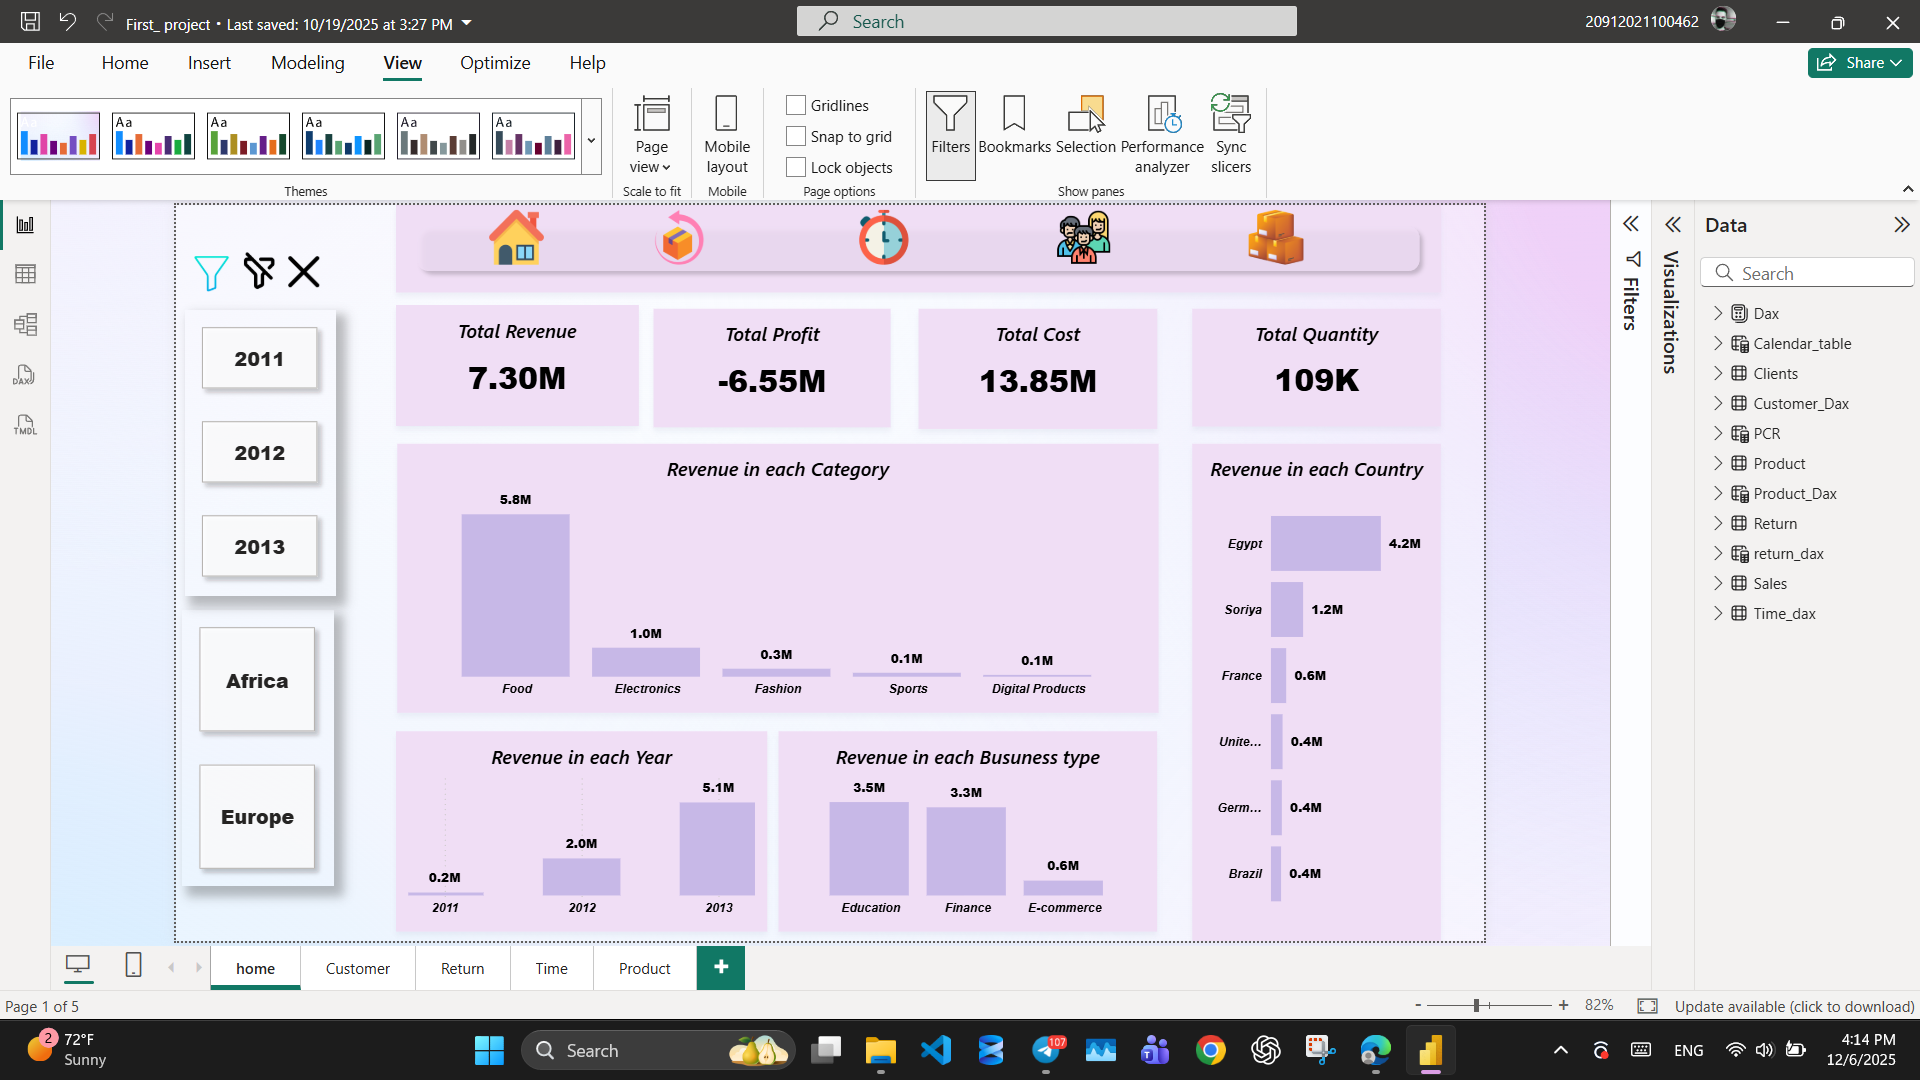

The dashboard page shown, as its layout file describes it:
{"tool":"powerbi","page":{"name":"home","canvas":[1280,720],"ordinal":0},"visuals":[{"type":"advancedSlicerVisual","fields":{"Values":["Calendar_table.year"]},"box":[8.6,102.7,148,280],"z":2000},{"type":"advancedSlicerVisual","fields":{"Values":["Clients.Continent"]},"box":[6.1,396.2,148,270.2],"z":3000},{"type":"shape","box":[215.2,0,1022.3,85.6],"z":4000},{"type":"image","box":[95.4,45.2,58.7,40.4],"z":5000},{"type":"image","box":[50.1,41.6,62.4,50.1],"z":6000},{"type":"image","box":[0,45.2,69.7,44],"z":7000},{"type":"image","box":[275.6,0,116.7,63.3],"z":8000},{"type":"image","box":[815.6,0,145.5,63.6],"z":9000},{"type":"image","box":[624.4,0,135.3,63.3],"z":10000},{"type":"image","box":[430.4,0,124.7,63.6],"z":11000},{"type":"image","box":[1015.4,0,122.9,63.3],"z":12000},{"type":"card","title":"Total Revenue","fields":{"Values":["Dax.total _revenue"]},"box":[215.2,97.8,237.2,118.6],"z":13000},{"type":"card","title":"Total Revenue","fields":{"Values":["Dax.Show_Variance_revenue"]},"box":[357.1,177.3,90.5,50.1],"z":14000},{"type":"card","title":"Total Revenue","fields":{"Values":["Dax.Arrow_revenue"]},"box":[214,165.1,63.6,63.6],"z":15000},{"type":"card","title":"Total Profit","fields":{"Values":["Dax.total_profit"]},"box":[467.1,101.5,232.3,116.2],"z":16000},{"type":"card","title":"Total Revenue","fields":{"Values":["Dax.Show_Variance_profit"]},"box":[601.6,178.5,90.5,50.1],"z":17000},{"type":"card","title":"Total Revenue","fields":{"Values":["Dax.Arrow_profit"]},"box":[452.4,170,63.6,63.6],"z":18000},{"type":"card","title":"Total Cost","fields":{"Values":["Dax.total_cost"]},"box":[726.4,101.5,233.6,117.4],"z":19000},{"type":"card","title":"Total Revenue","fields":{"Values":["Dax.Show_Variance_cost"]},"box":[870.7,177.3,90.5,50.1],"z":20000},{"type":"card","title":"Total Revenue","fields":{"Values":["Dax.Arrow_cost"]},"box":[725.1,171.2,69.7,50.1],"z":21000},{"type":"card","title":"Total Quantity","fields":{"Values":["Dax.total_qty"]},"box":[994.2,101.5,243.3,114.9],"z":22000},{"type":"clusteredColumnChart","title":"Revenue in each Category","fields":{"Category":["Product.CategoryName"],"Y":["Dax.total _revenue"]},"box":[216.4,233.6,744.7,262.9],"z":23000},{"type":"clusteredBarChart","title":"Revenue in each Country","fields":{"Category":["Clients.CountryName"],"Y":["Dax.total _revenue"]},"box":[994.2,233.6,243.3,486.7],"z":24000},{"type":"clusteredColumnChart","title":"Revenue in each Year","fields":{"Y":["Dax.total _revenue"],"Category":["Calendar_table.year"]},"box":[215.2,514.8,363.2,195.7],"z":25000},{"type":"clusteredColumnChart","title":"Revenue in each Busuness type","fields":{"Category":["Clients.BusinessType"],"Y":["Dax.total _revenue"]},"box":[589.4,514.8,370.5,195.7],"z":26000}]}

Visuals, with their boxes on the page's 1280x720 design canvas (x1, y1, x2, y2). These are canvas units, not pixel positions in the 1920x1080 screenshot, which may show the page scaled, cropped or inside an application window:
advancedSlicerVisual - Calendar_table.year: select_region(9, 103, 157, 383)
advancedSlicerVisual - Clients.Continent: select_region(6, 396, 154, 666)
shape: select_region(215, 0, 1238, 86)
image: select_region(95, 45, 154, 86)
image: select_region(50, 42, 112, 92)
image: select_region(0, 45, 70, 89)
image: select_region(276, 0, 392, 63)
image: select_region(816, 0, 961, 64)
image: select_region(624, 0, 760, 63)
image: select_region(430, 0, 555, 64)
image: select_region(1015, 0, 1138, 63)
"Total Revenue" card: select_region(215, 98, 452, 216)
"Total Revenue" card: select_region(357, 177, 448, 227)
"Total Revenue" card: select_region(214, 165, 278, 229)
"Total Profit" card: select_region(467, 102, 699, 218)
"Total Revenue" card: select_region(602, 178, 692, 229)
"Total Revenue" card: select_region(452, 170, 516, 234)
"Total Cost" card: select_region(726, 102, 960, 219)
"Total Revenue" card: select_region(871, 177, 961, 227)
"Total Revenue" card: select_region(725, 171, 795, 221)
"Total Quantity" card: select_region(994, 102, 1238, 216)
"Revenue in each Category" clusteredColumnChart: select_region(216, 234, 961, 496)
"Revenue in each Country" clusteredBarChart: select_region(994, 234, 1238, 720)
"Revenue in each Year" clusteredColumnChart: select_region(215, 515, 578, 710)
"Revenue in each Busuness type" clusteredColumnChart: select_region(589, 515, 960, 710)
